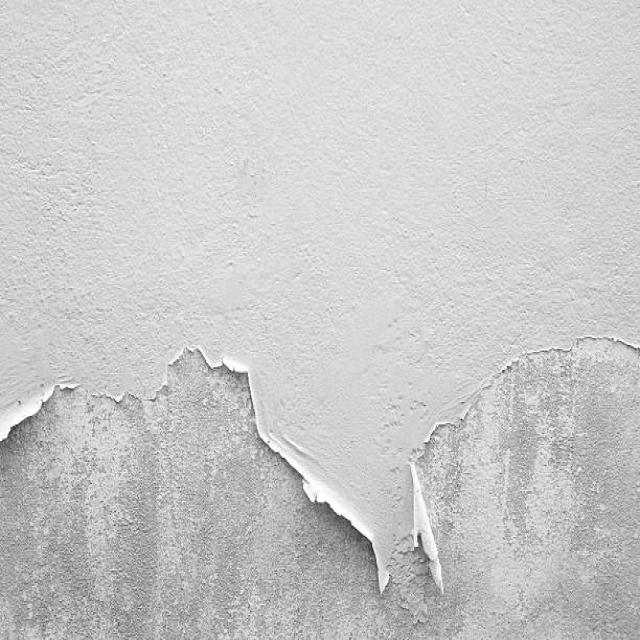peeling paint: (1, 317, 640, 640)
